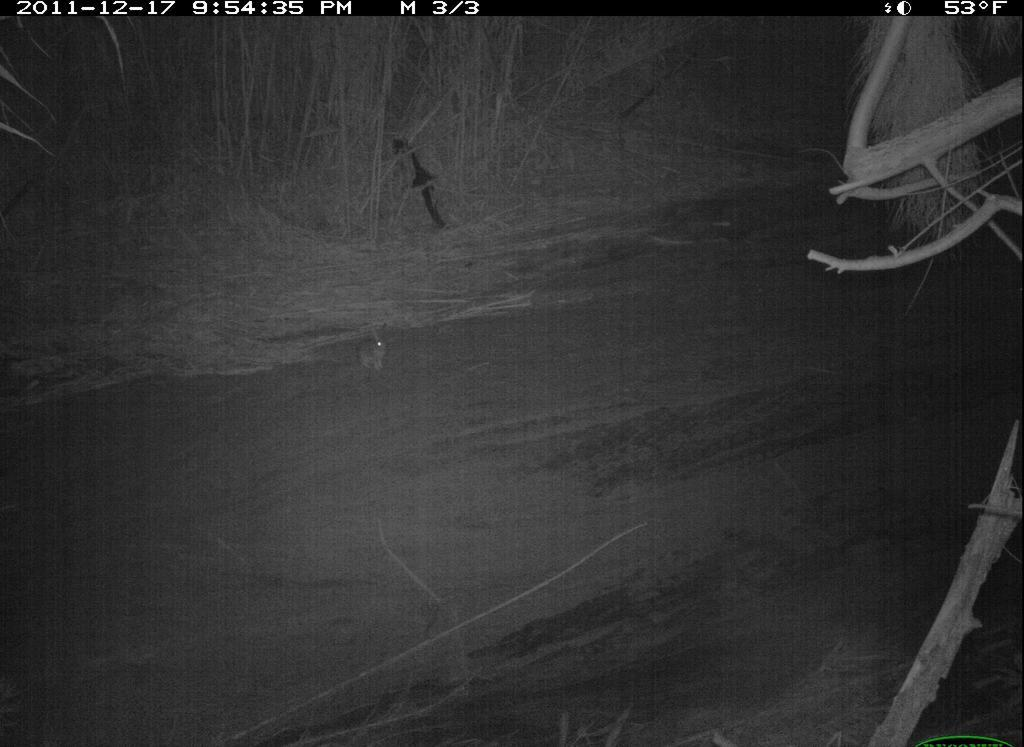rabbit: (349, 324, 396, 382)
